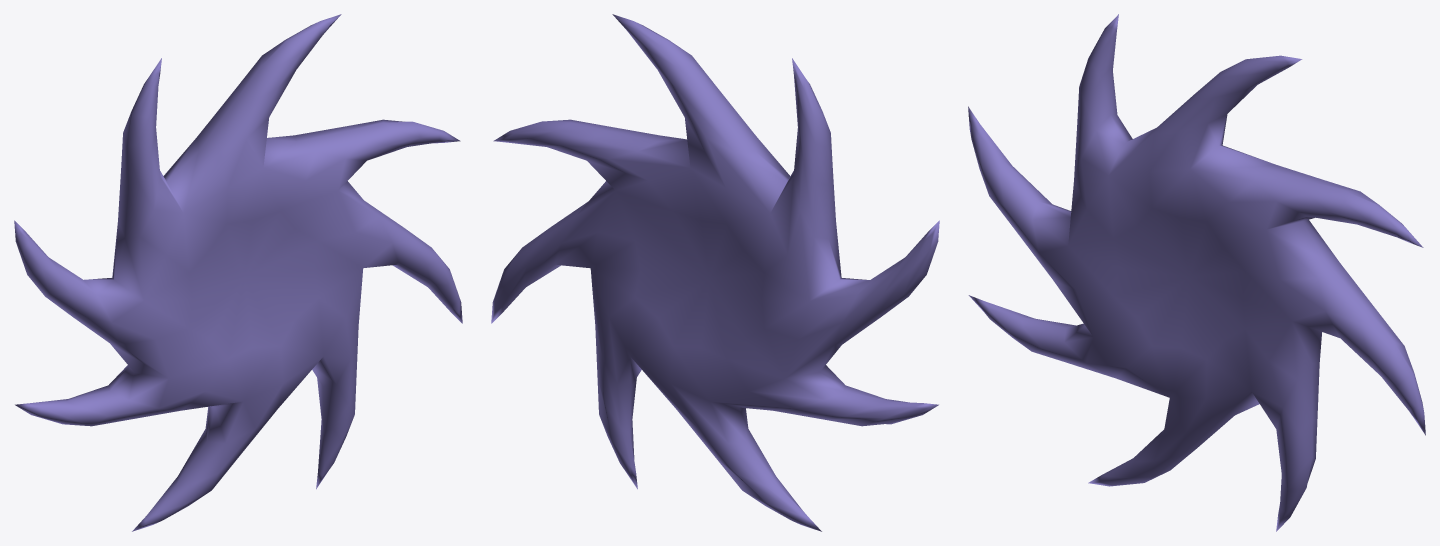
Rendered from goal.fbx.
3 views of the same model, side by side, from view 1: azimuth 30°, elevation 25°; view 2: azimuth 150°, elevation 25°; view 3: azimuth 330°, elevation 25° (orthographic). The views are drawn at different scales.
Parts seen in each view (by area): view 1: goal; view 2: goal; view 3: goal.
Part boxes in pixels (box(x1,y1,x2,y2)): goal: box(14, 14, 462, 531); goal: box(491, 14, 939, 531); goal: box(968, 14, 1425, 531).
Size of the model in its own units: 5.2 by 5.2 by 0.7157.
